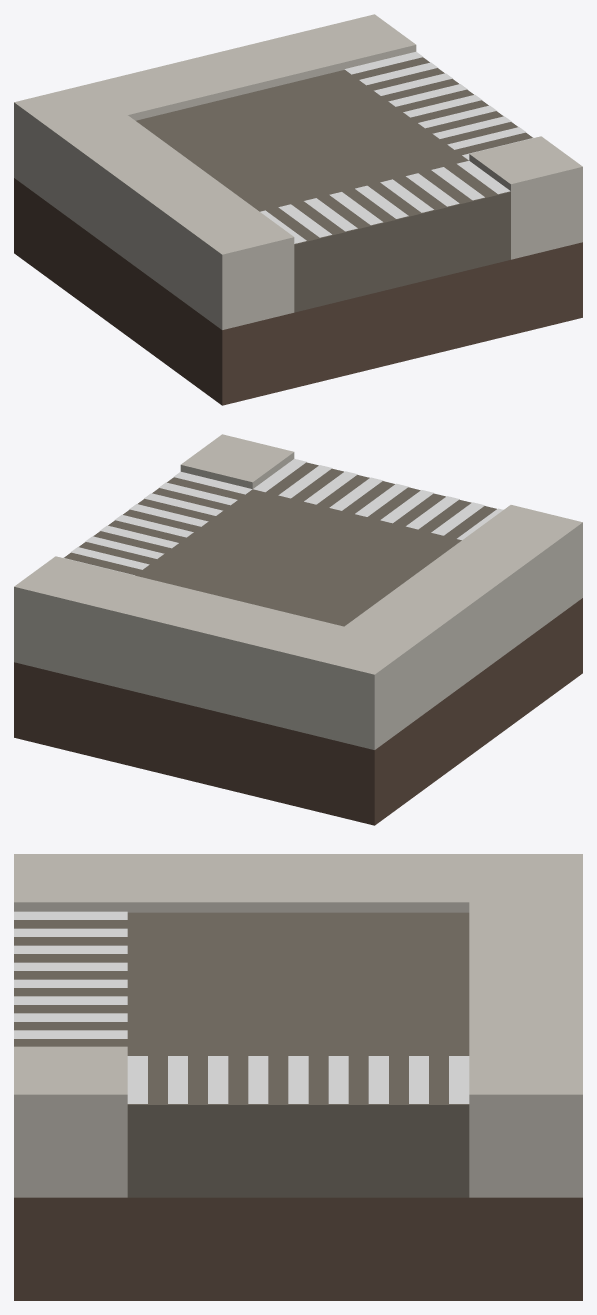
File: road-tile-crossing-L_small.fbx
The picture shows the model from 3 angles, top to bottom: view 1: azimuth 30°, elevation 25°; view 2: azimuth 150°, elevation 25°; view 3: azimuth 270°, elevation 25°; orthographic projection. The views are drawn at different scales.
Visible parts, largest first — view 1: road-tile-crossing-L_small; view 2: road-tile-crossing-L_small; view 3: road-tile-crossing-L_small.
Boxes of the visible parts, box(x1,y1,x2,y2) form: road-tile-crossing-L_small: box(14, 14, 582, 405); road-tile-crossing-L_small: box(14, 434, 582, 825); road-tile-crossing-L_small: box(14, 854, 582, 1300).
Size of the model in its own units: 1000 by 400 by 1000.
